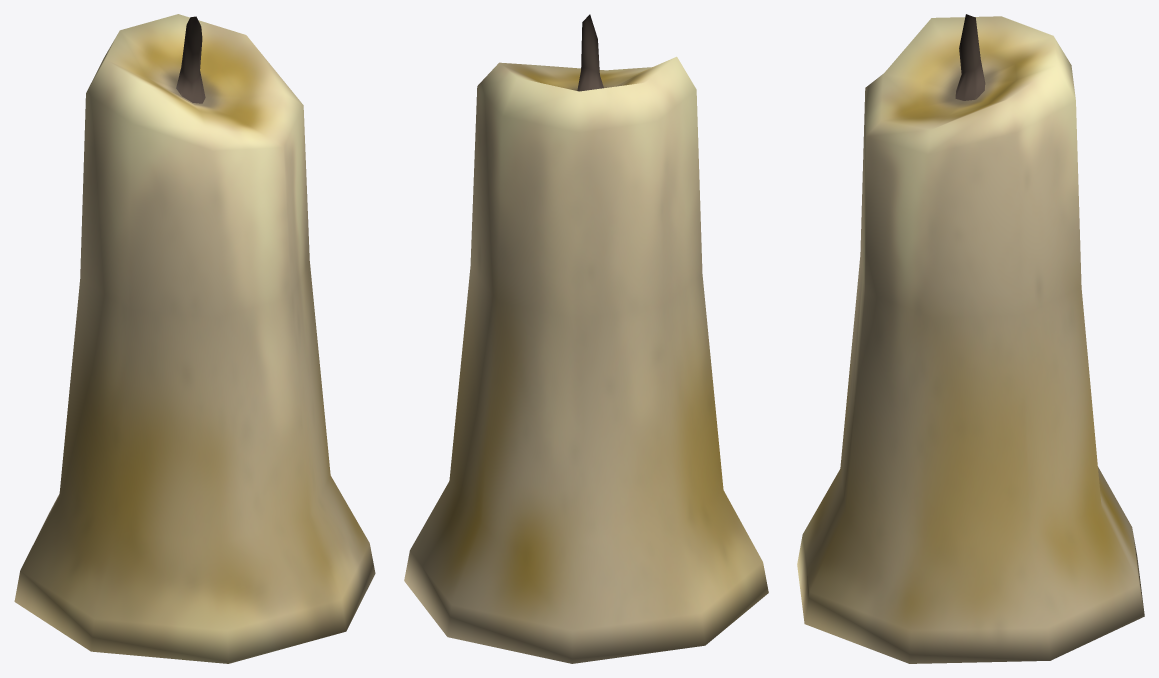
The model's file is candle2.fbx.
3 views of the same model, side by side, from view 1: azimuth 30°, elevation 25°; view 2: azimuth 150°, elevation 25°; view 3: azimuth 270°, elevation 25° (orthographic).
Parts seen in each view (by area): view 1: candle2; view 2: candle2; view 3: candle2.
Part boxes in pixels (bbox=[...]): candle2: bbox=[14, 14, 375, 663]; candle2: bbox=[404, 14, 768, 663]; candle2: bbox=[797, 14, 1144, 663].
Bounding box in the file's own units: 34.76 × 63.54 × 34.76.
